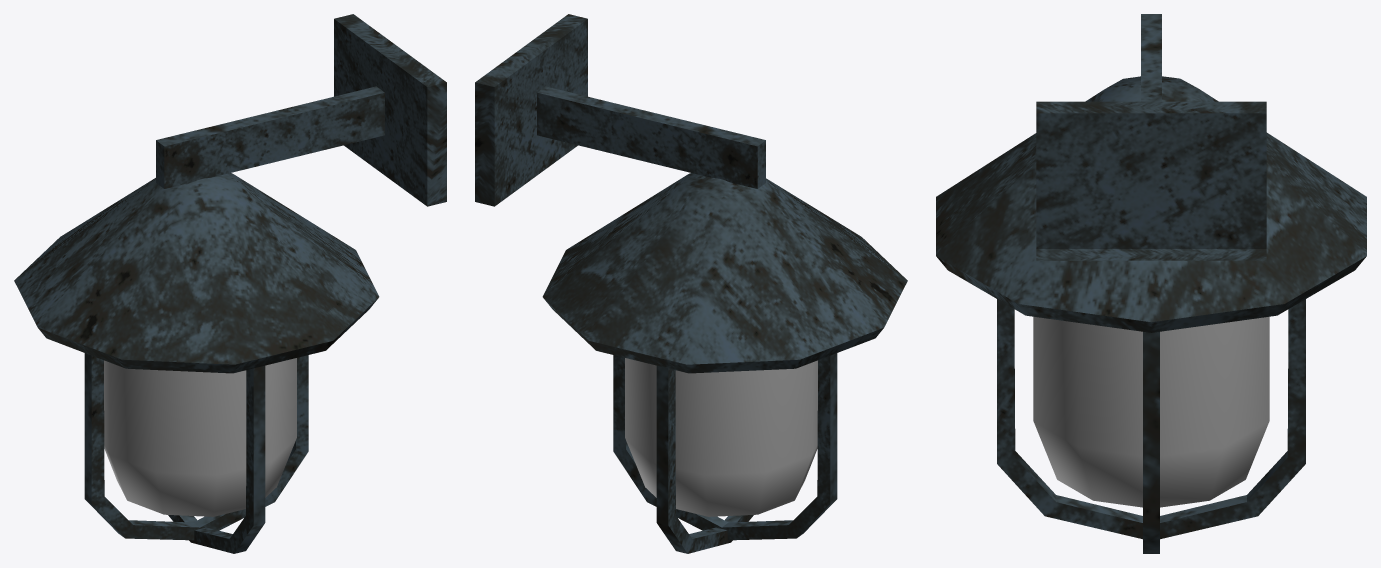
The model's file is Lamp_Mesh.fbx.
3 views of the same model, side by side, from view 1: azimuth 30°, elevation 25°; view 2: azimuth 150°, elevation 25°; view 3: azimuth 270°, elevation 25° (orthographic). The views are drawn at different scales.
Visible parts, largest first — view 1: Lamp_Mesh; view 2: Lamp_Mesh; view 3: Lamp_Mesh.
Part boxes in pixels (x1,y1,x2,y2): Lamp_Mesh: (14, 14, 446, 553); Lamp_Mesh: (475, 14, 907, 553); Lamp_Mesh: (936, 14, 1366, 553).
Size of the model in its own units: 66.6 by 77.83 by 55.6.
